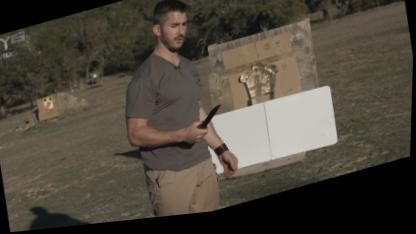knife: (180, 103, 230, 148)
